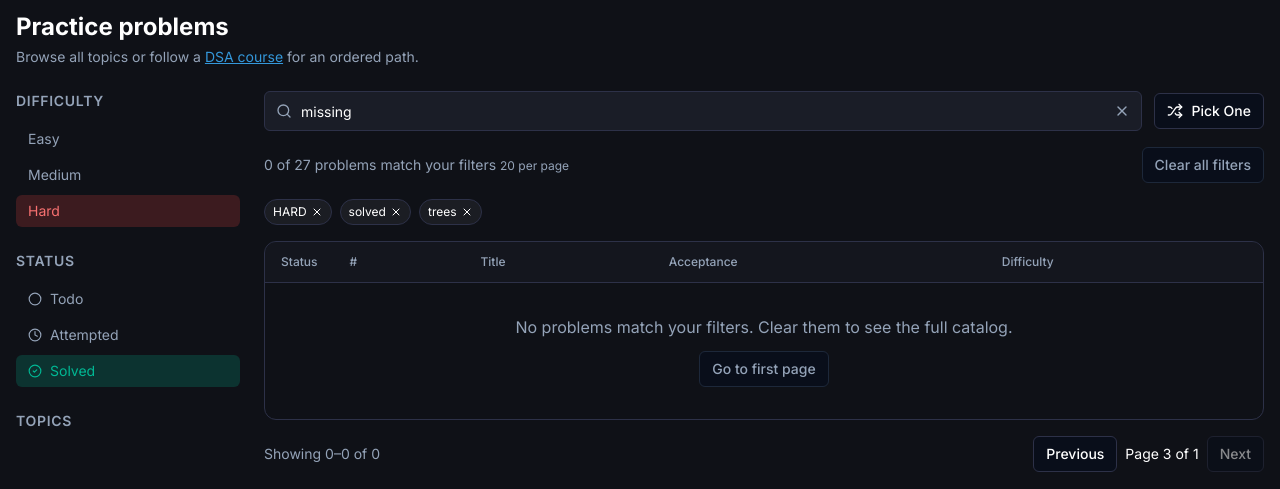
catalog distinguishes filters from the full library and clears search, topics, status and page
Check: the text "0 of 27 problems match your filters 20 per page" is shown, box [264, 155, 569, 175]
Check: the text "No problems match your filters" is shown, box [516, 317, 1013, 337]
Click the button "Clear all filters" at (1203, 165), box [1142, 147, 1264, 183]
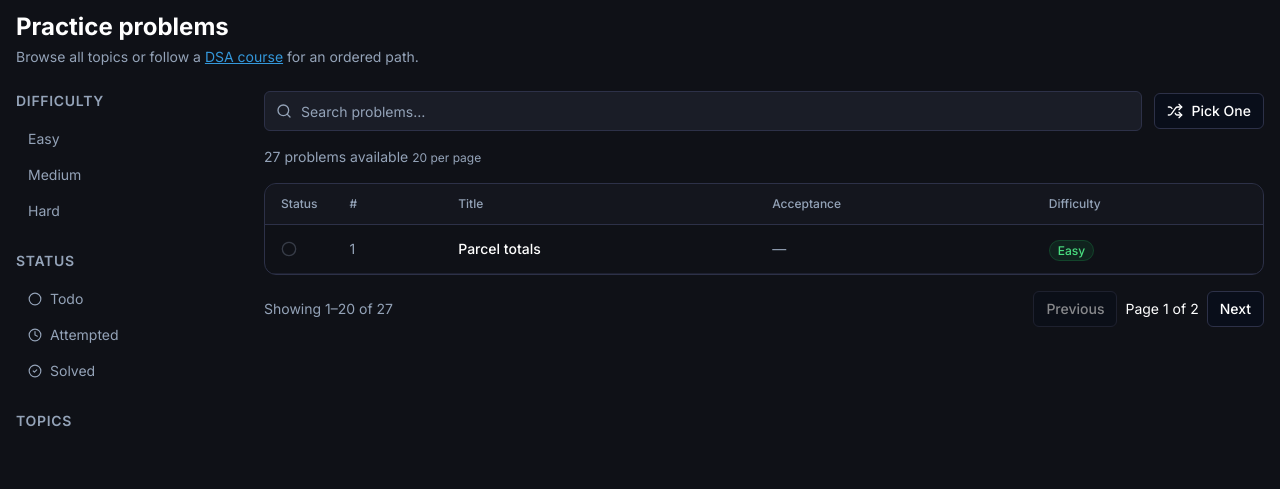
Check: the text "27 problems available 20 per page" is shown, box [264, 147, 481, 167]
Check: the field labelled "Search problems" is empty, box [264, 91, 1142, 131]
Check: the link "Parcel totals" is shown, box [458, 239, 541, 259]
